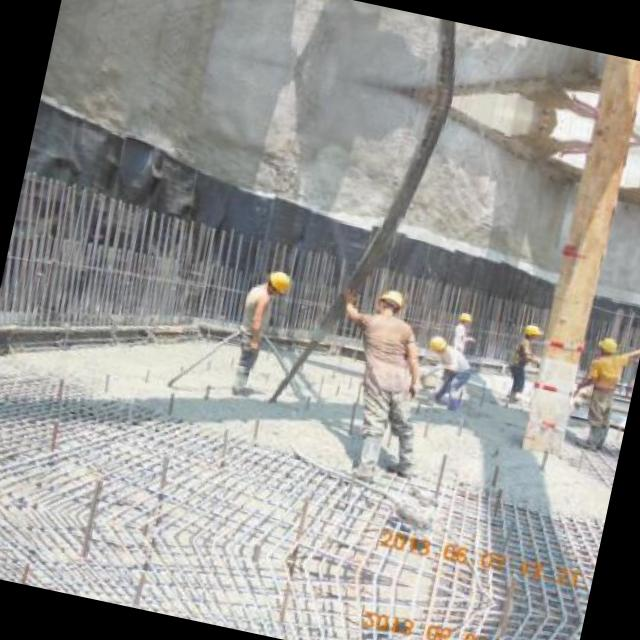helmet: (257, 262, 295, 300), (372, 282, 408, 318), (591, 331, 623, 358), (518, 316, 544, 344), (426, 330, 453, 356), (452, 309, 474, 329)
